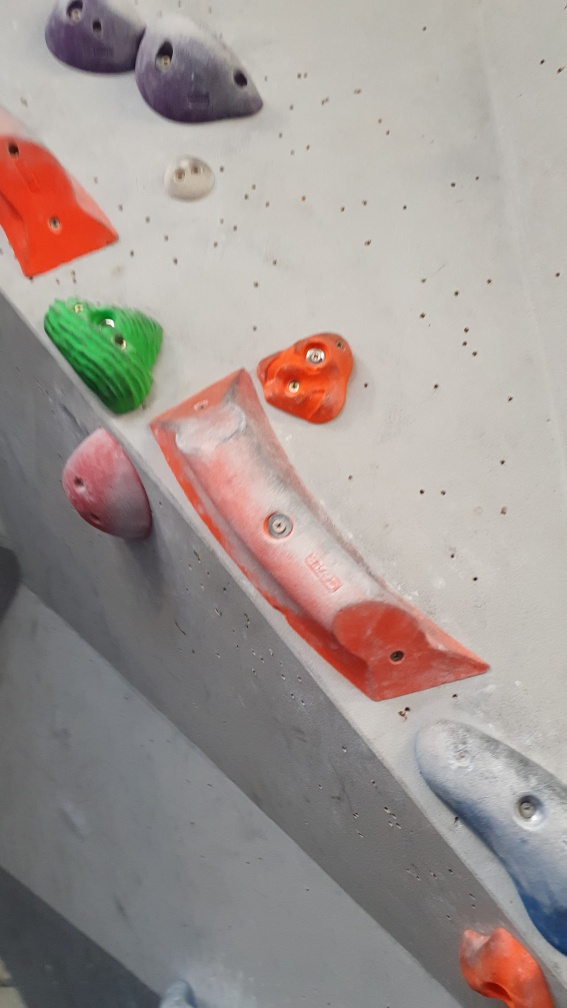Jug: (42, 289, 163, 419), (133, 13, 270, 125), (43, 1, 147, 78)
Pinch: (148, 366, 491, 702), (414, 713, 567, 957), (1, 90, 125, 284)
Sloper: (61, 426, 155, 542)
